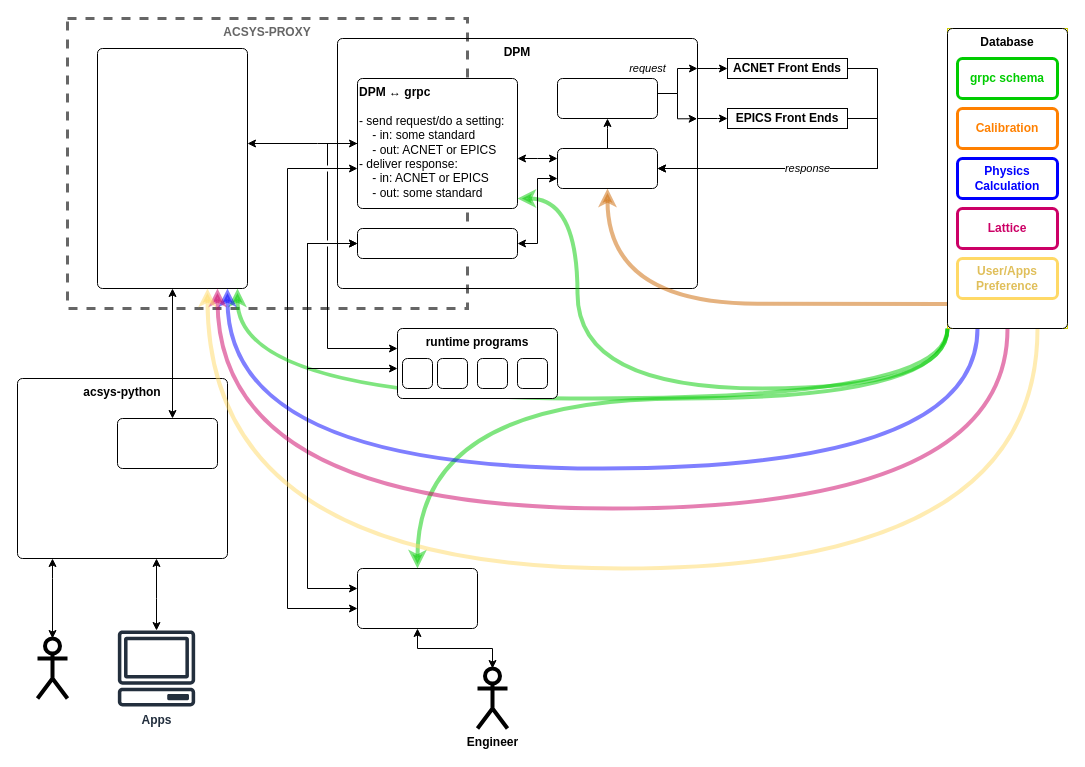
Image size: 1085x767. Some labels were removed from this diagram. The centre of each missing label's shape, as x and y in pixels:
Balancing: the point at 607,98
Data formatting: the point at 607,168
grpc ↔ gQL - name - properties -: the point at 172,168
grpc-user: the point at 417,598
other protocols ↔ DPM: the point at 437,243
Physicist: the point at 52,668
raw graphQL-user: the point at 167,443
